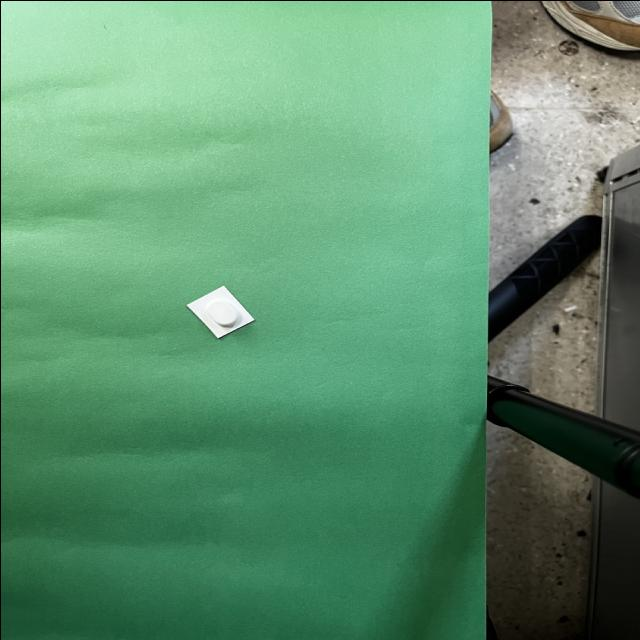Other Objects: (187, 286, 254, 337)
